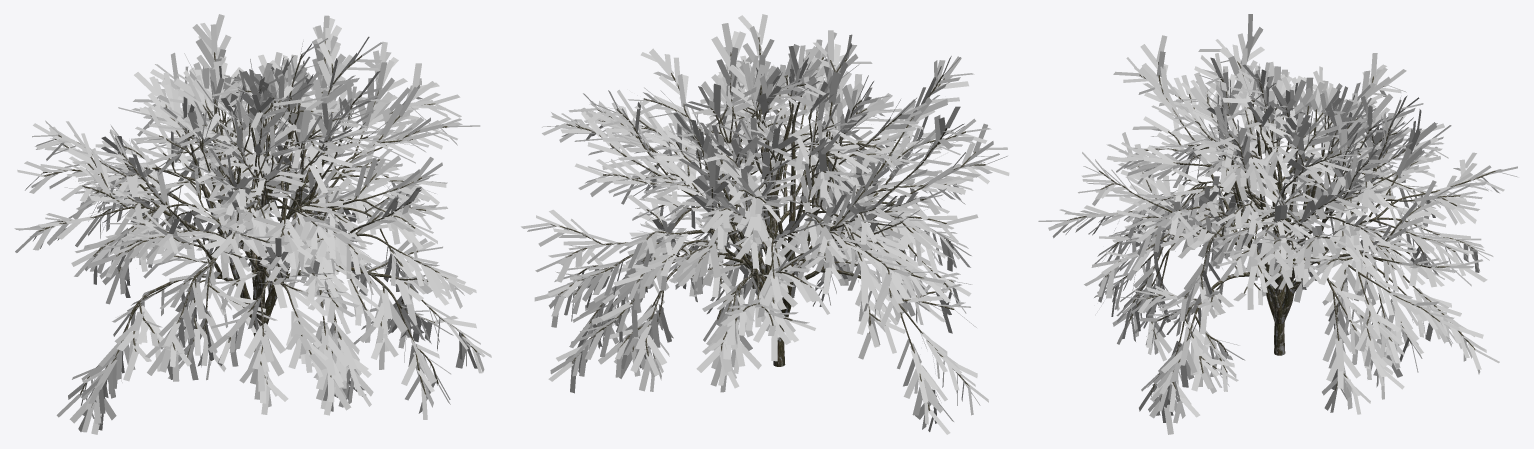
Rendered from TreeB.fbx.
3 renders of one model, left to right at view 1: azimuth 30°, elevation 25°; view 2: azimuth 150°, elevation 25°; view 3: azimuth 270°, elevation 25°, orthographic. The views are drawn at different scales.
Parts seen in each view (by area): view 1: leaves.BushA_LOD0, BushA_LOD0; view 2: leaves.BushA_LOD0, BushA_LOD0; view 3: leaves.BushA_LOD0, BushA_LOD0.
Boxes of the visible parts, x1,y1,x2,y2 form: leaves.BushA_LOD0: [14, 14, 491, 434]; BushA_LOD0: [38, 41, 477, 407]; leaves.BushA_LOD0: [521, 14, 1009, 434]; BushA_LOD0: [550, 37, 985, 410]; leaves.BushA_LOD0: [1038, 14, 1518, 434]; BushA_LOD0: [1067, 61, 1495, 397].
Size of what is drawn, in the model's own units: 97.45 by 79.12 by 105.
